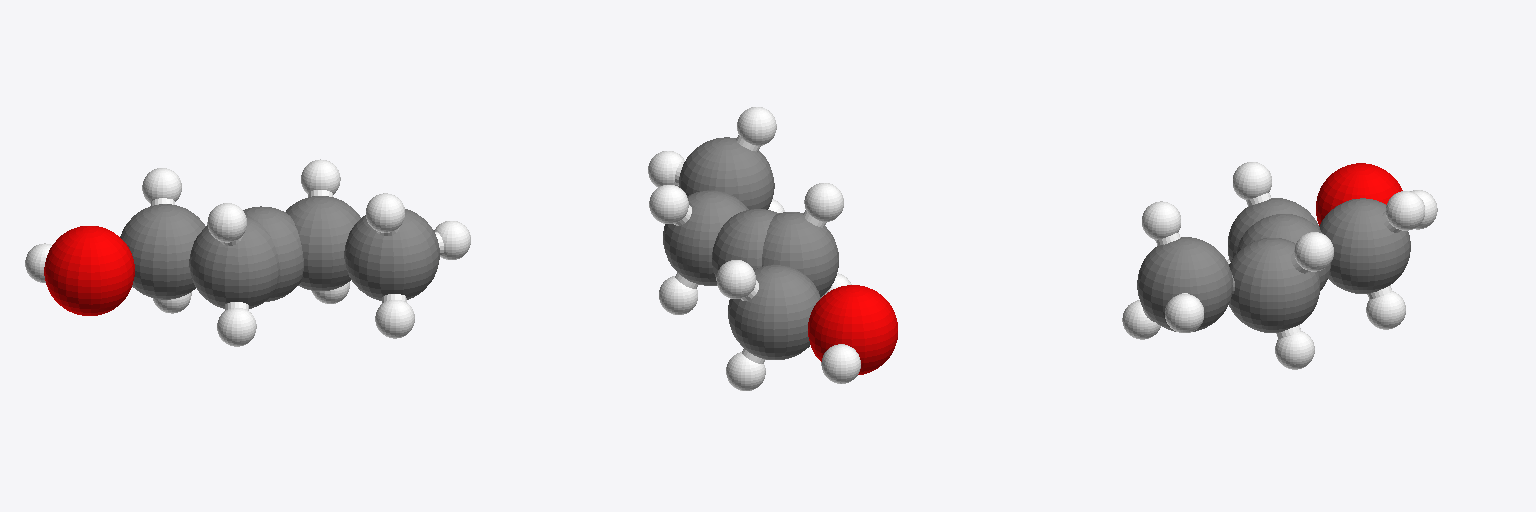
Rendered from propanol3D.obj.
3 views of the same model, side by side, from view 1: azimuth 30°, elevation 25°; view 2: azimuth 150°, elevation 25°; view 3: azimuth 270°, elevation 25° (orthographic).
Parts seen in each view (by area): view 1: Carbon_ball_SurfSphere.007, Hydrogen_ball_SurfSphere.008, Oxygen_ball_SurfSphere.006, Carbon_ball.001_SurfSphere.001, Hydrogen_sticks_cylinder.002; view 2: Carbon_ball_SurfSphere.007, Hydrogen_ball_SurfSphere.008, Oxygen_ball_SurfSphere.006, Carbon_ball.001_SurfSphere.001, Hydrogen_sticks_cylinder.002; view 3: Carbon_ball_SurfSphere.007, Hydrogen_ball_SurfSphere.008, Oxygen_ball_SurfSphere.006, Carbon_ball.001_SurfSphere.001, Hydrogen_sticks_cylinder.002.
Boxes of the visible parts, x1,y1,x2,y2 form: Carbon_ball_SurfSphere.007: [120, 196, 439, 308]; Hydrogen_ball_SurfSphere.008: [25, 159, 470, 346]; Oxygen_ball_SurfSphere.006: [44, 226, 134, 315]; Carbon_ball.001_SurfSphere.001: [243, 206, 303, 301]; Hydrogen_sticks_cylinder.002: [151, 190, 443, 310]; Carbon_ball_SurfSphere.007: [663, 137, 838, 359]; Hydrogen_ball_SurfSphere.008: [648, 107, 860, 390]; Oxygen_ball_SurfSphere.006: [808, 285, 897, 374]; Carbon_ball.001_SurfSphere.001: [712, 209, 778, 276]; Hydrogen_sticks_cylinder.002: [674, 135, 832, 363]; Carbon_ball_SurfSphere.007: [1137, 198, 1410, 332]; Hydrogen_ball_SurfSphere.008: [1122, 162, 1437, 369]; Oxygen_ball_SurfSphere.006: [1316, 163, 1402, 225]; Carbon_ball.001_SurfSphere.001: [1236, 214, 1330, 290]; Hydrogen_sticks_cylinder.002: [1143, 193, 1400, 338].
Size of the model in its own units: 6.12 by 3.09 by 5.07.